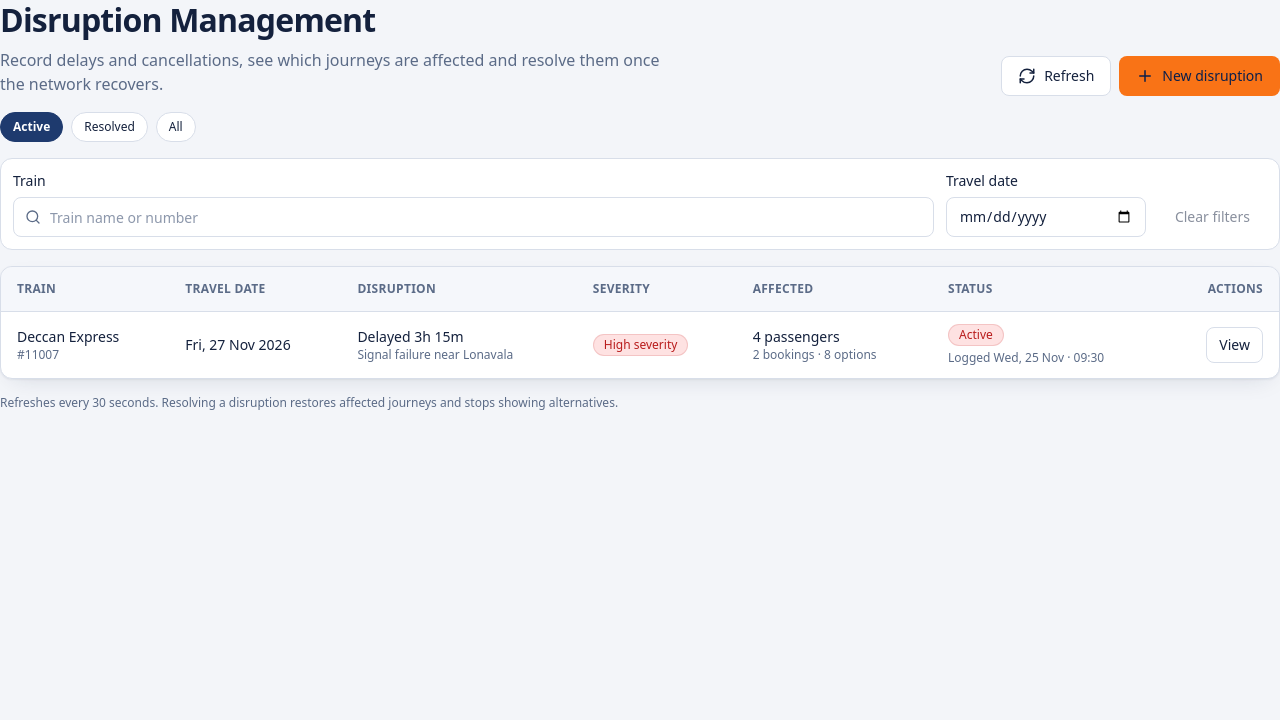
Test: Admin disruption management › resolves a disruption after a confirmation
Click the button "View" at (1235, 344), box x1=1206 y1=326 x2=1263 y2=362
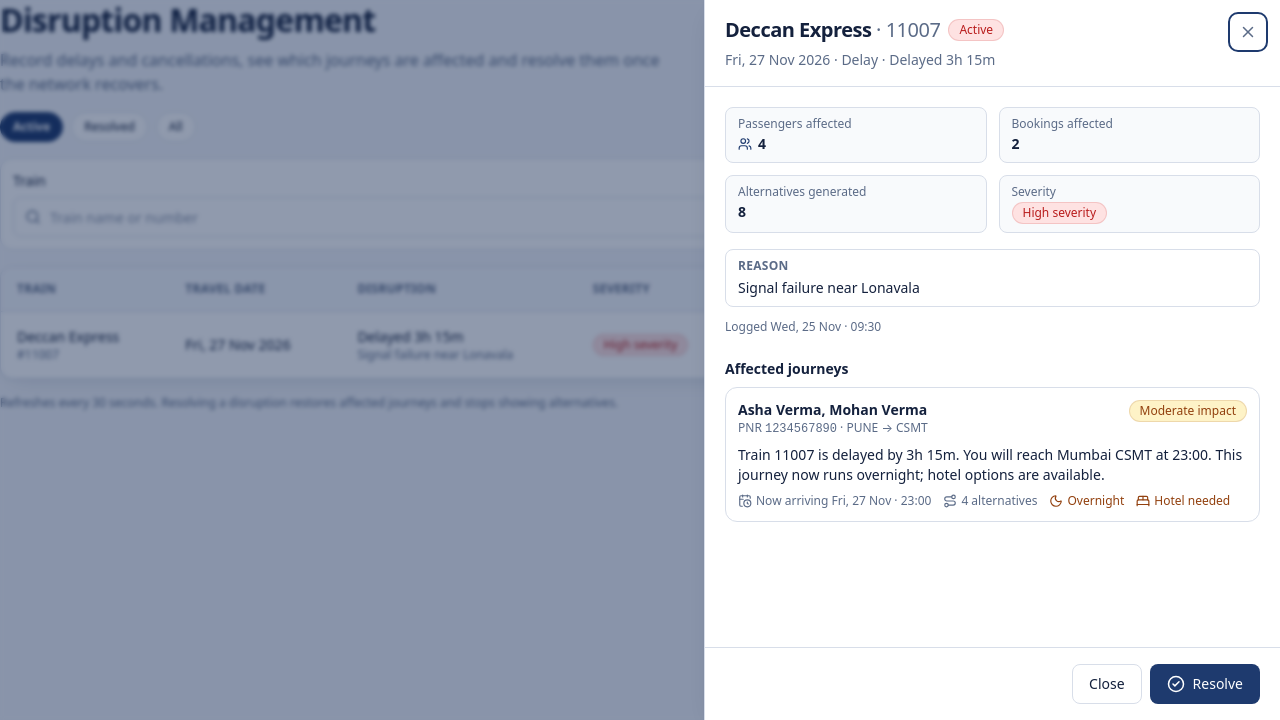
Expected: the heading "Affected journeys" is shown, x1=725 y1=359 x2=848 y2=378
Expected: the text "Asha Verma, Mohan Verma" is shown, x1=738 y1=400 x2=928 y2=420
Click the button "Resolve" at (1205, 684), box x1=1150 y1=664 x2=1260 y2=704
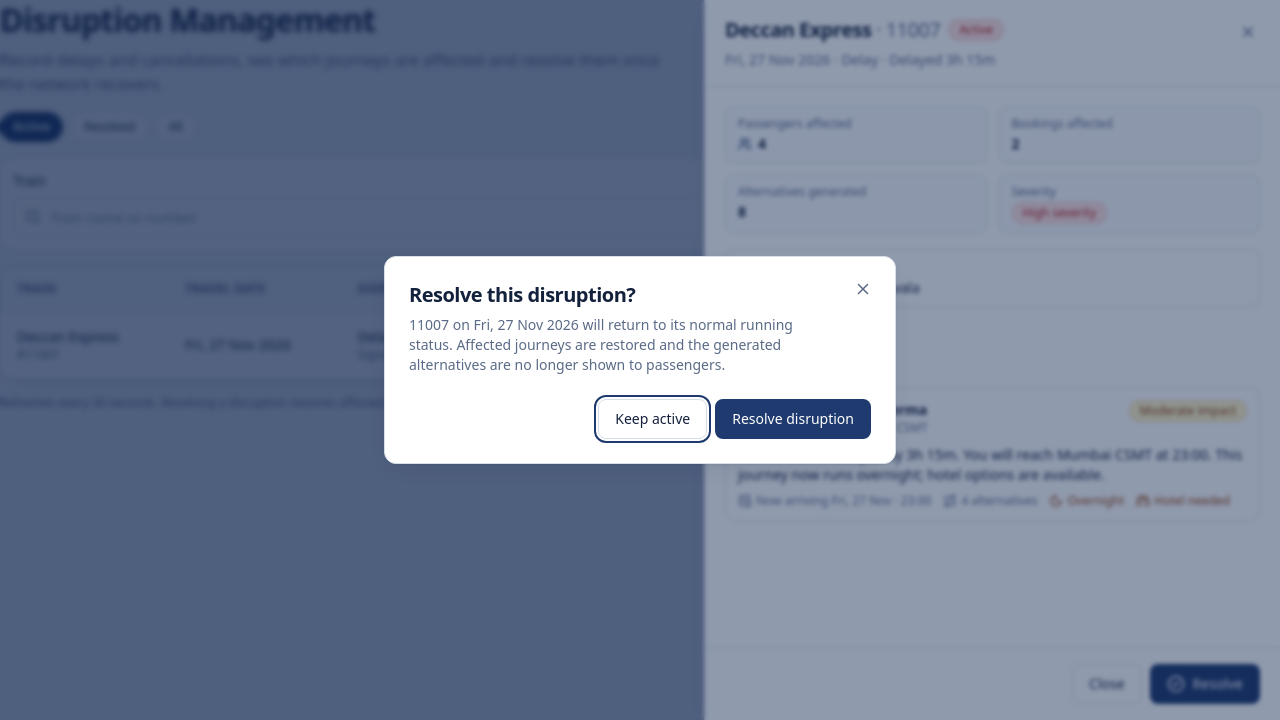
Expected: the dialog "Resolve this disruption?" is shown, x1=384 y1=256 x2=896 y2=464
Click the button "Resolve disruption" at (793, 419), box x1=715 y1=399 x2=871 y2=439
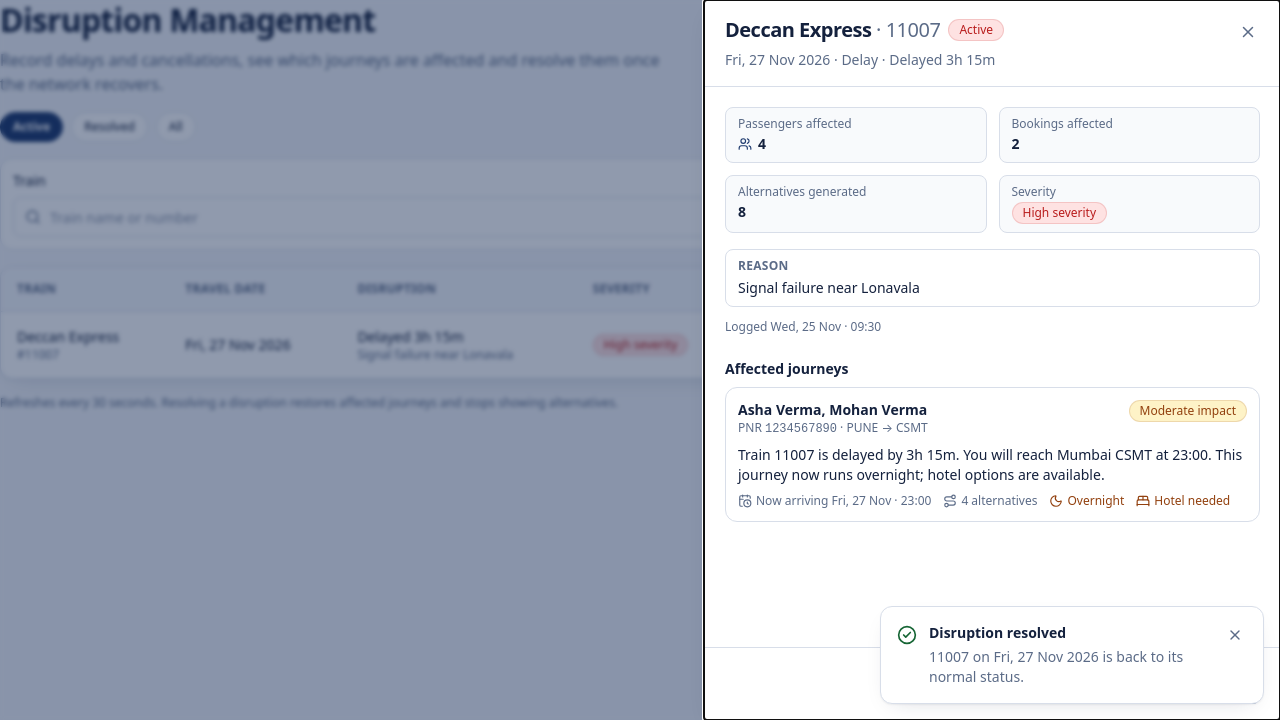
Expected: the text "Disruption resolved" is shown, x1=929 y1=623 x2=1066 y2=642
